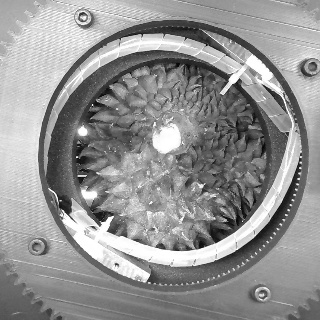base: (161, 111, 202, 147)
end: (151, 122, 182, 155)
